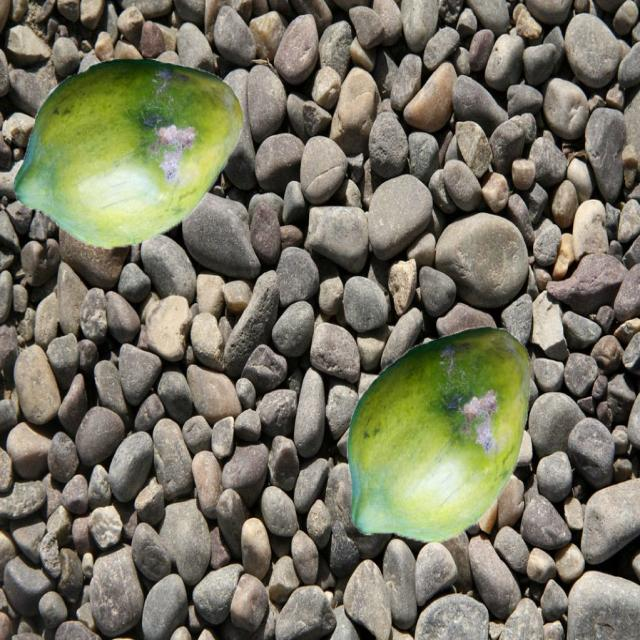Pepaya rippen: (8, 57, 256, 245), (347, 310, 533, 556)
